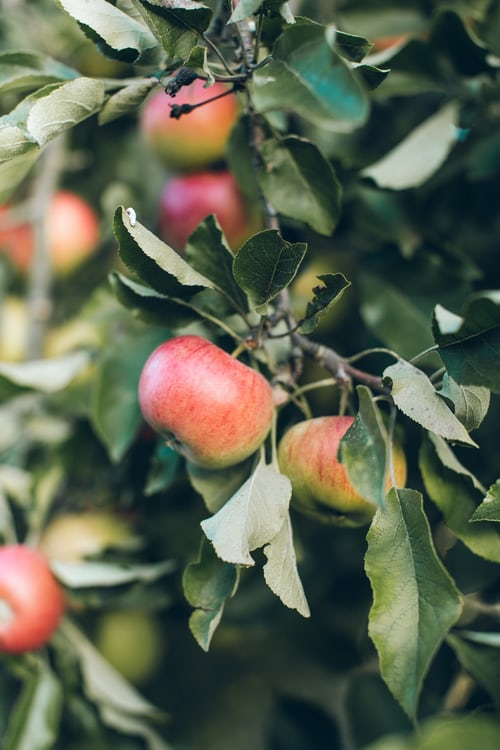apple: (137, 332, 274, 470), (271, 406, 411, 530)
